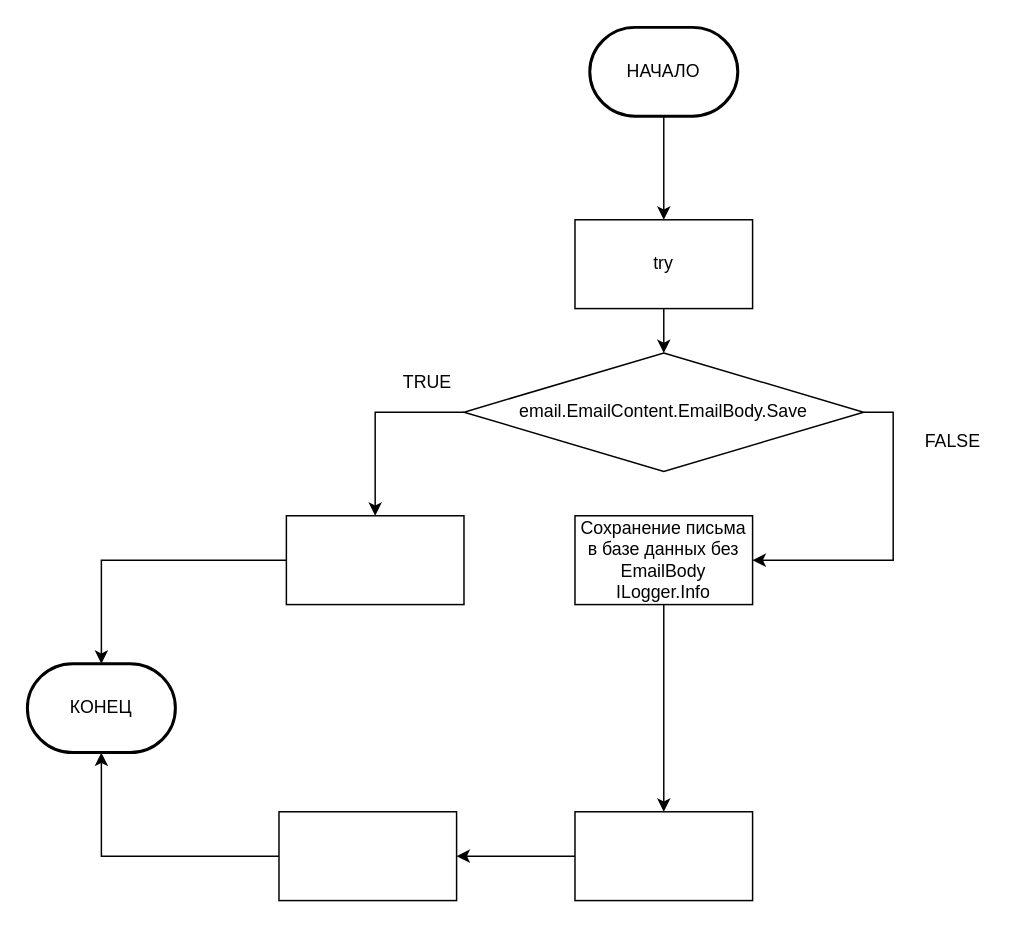
Image size: 1014x926. Some labels were removed from this diagram. Each missing label, with the centre of its shape:
catch: the point at 663,855
ILogger.Error return Exception: the point at 367,855
Сохранение письма в базе данных с EmailBody ILogger.Info: the point at 374,559
